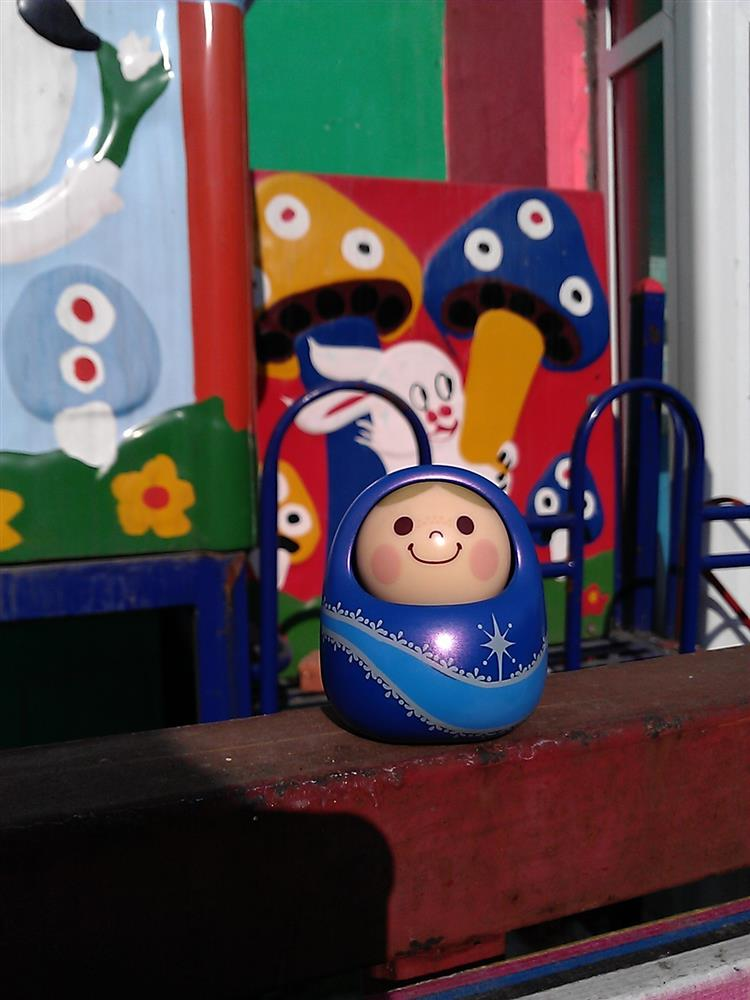matryoshka: (308, 450, 548, 758)
